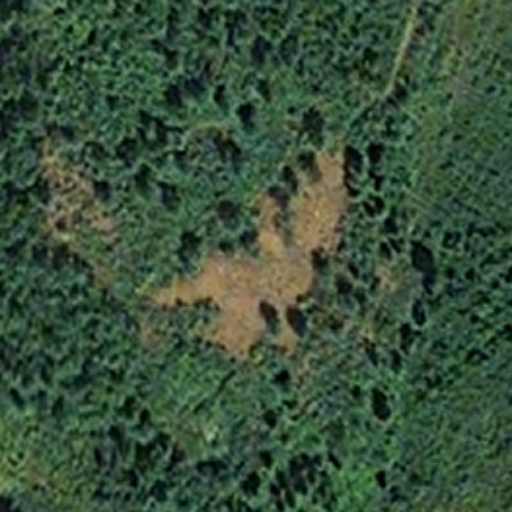landslide: (155, 149, 346, 356)
